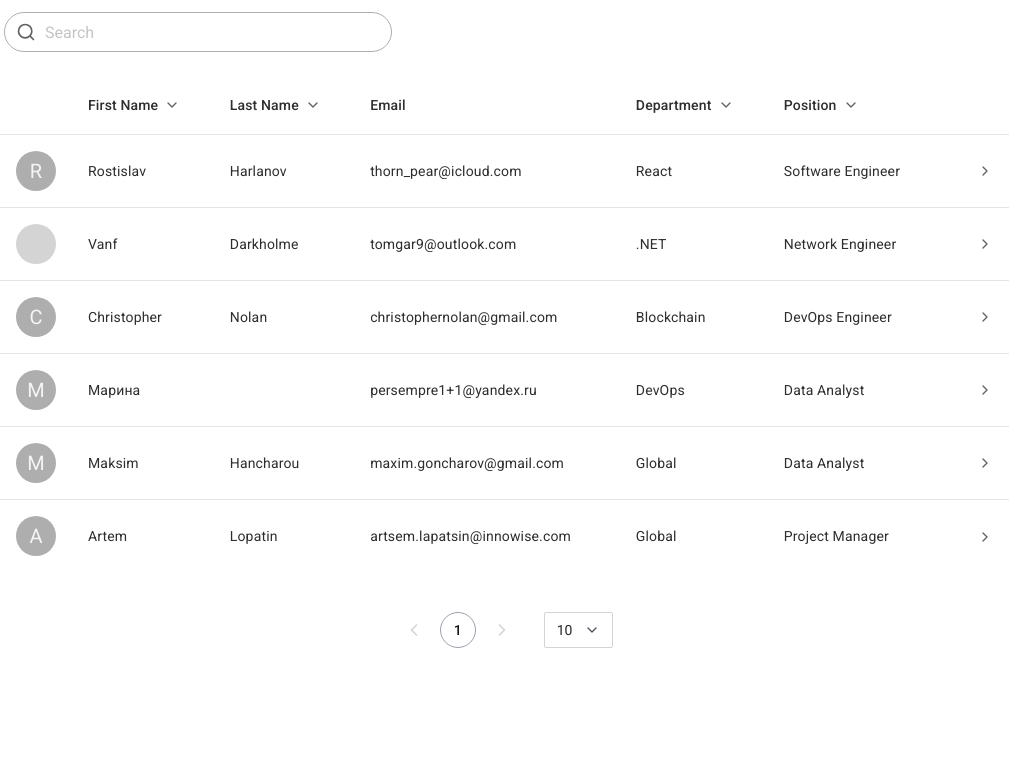
Scenario: UsersTable component › displays empty state message when search yields no results
The width and height of the screenshot is (1024, 780).
Step 1. Type "NonExistentName123" into the field named "search employees" → (198, 32), box x1=4 y1=12 x2=392 y2=52
Wait 300 ms
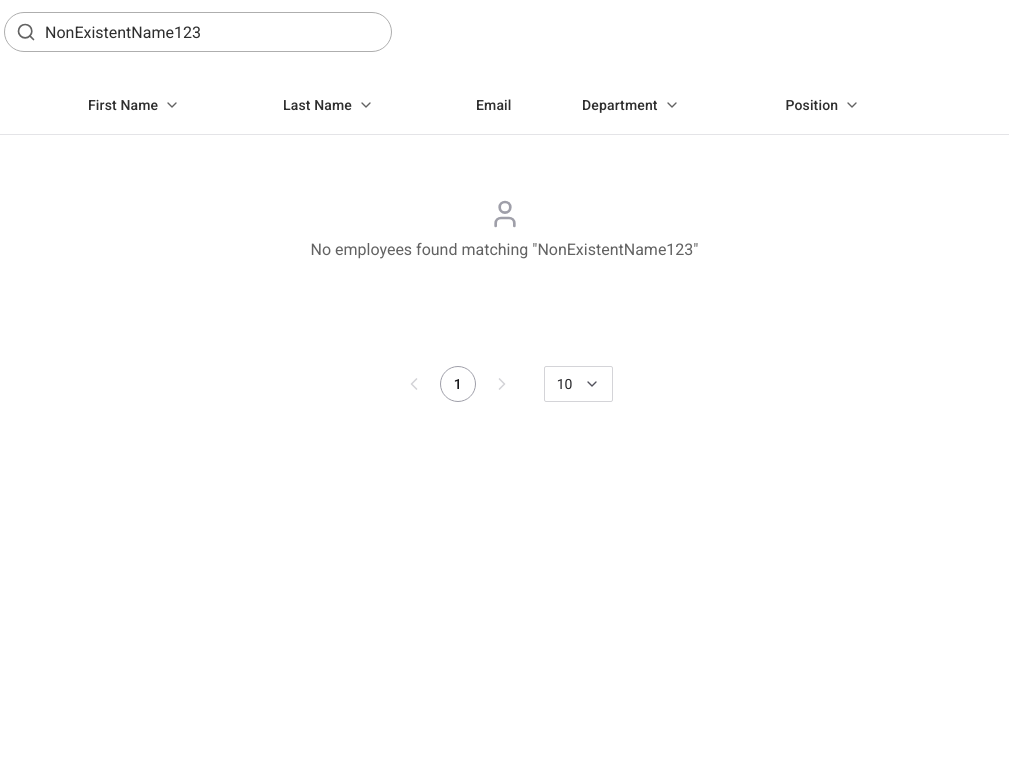
Expected: the text "No employees found matching \"NonExistentName123\"" is shown, x1=310 y1=238 x2=698 y2=262
